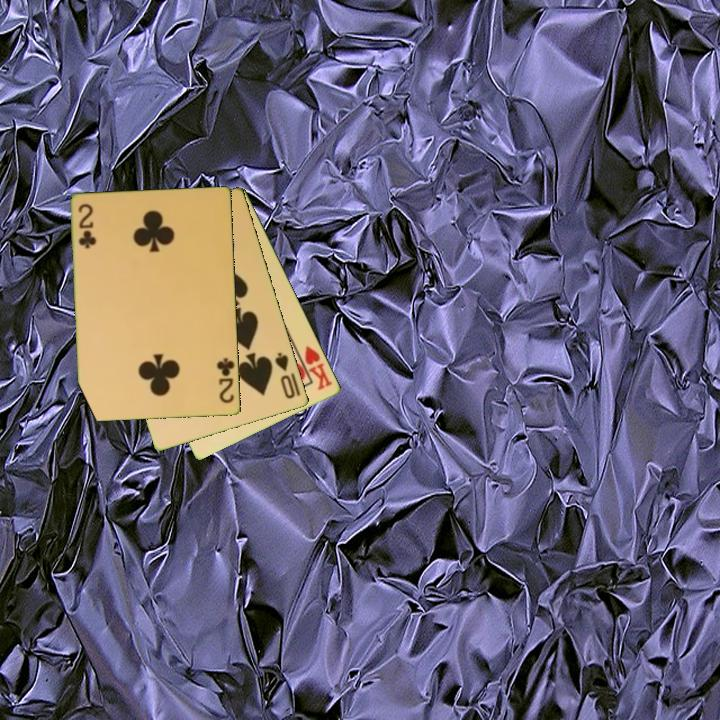10s: (272, 349, 304, 402)
2c: (213, 355, 237, 406), (75, 200, 98, 251)
Kh: (293, 343, 336, 393)
